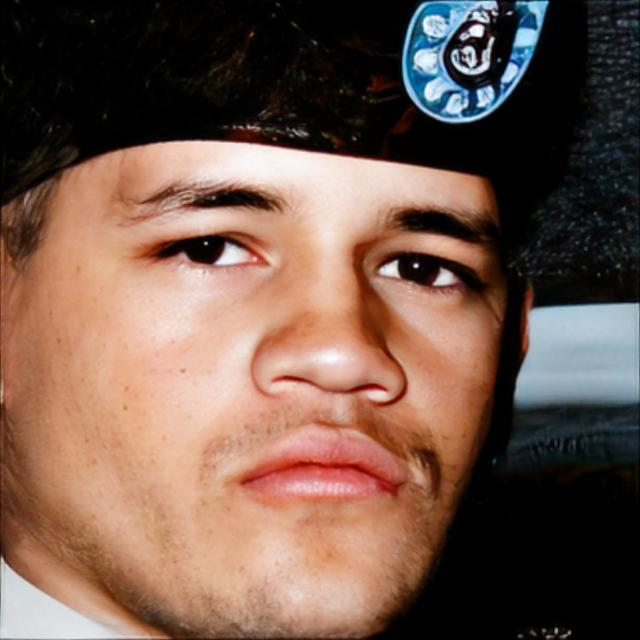neutral: (0, 136, 510, 638)
